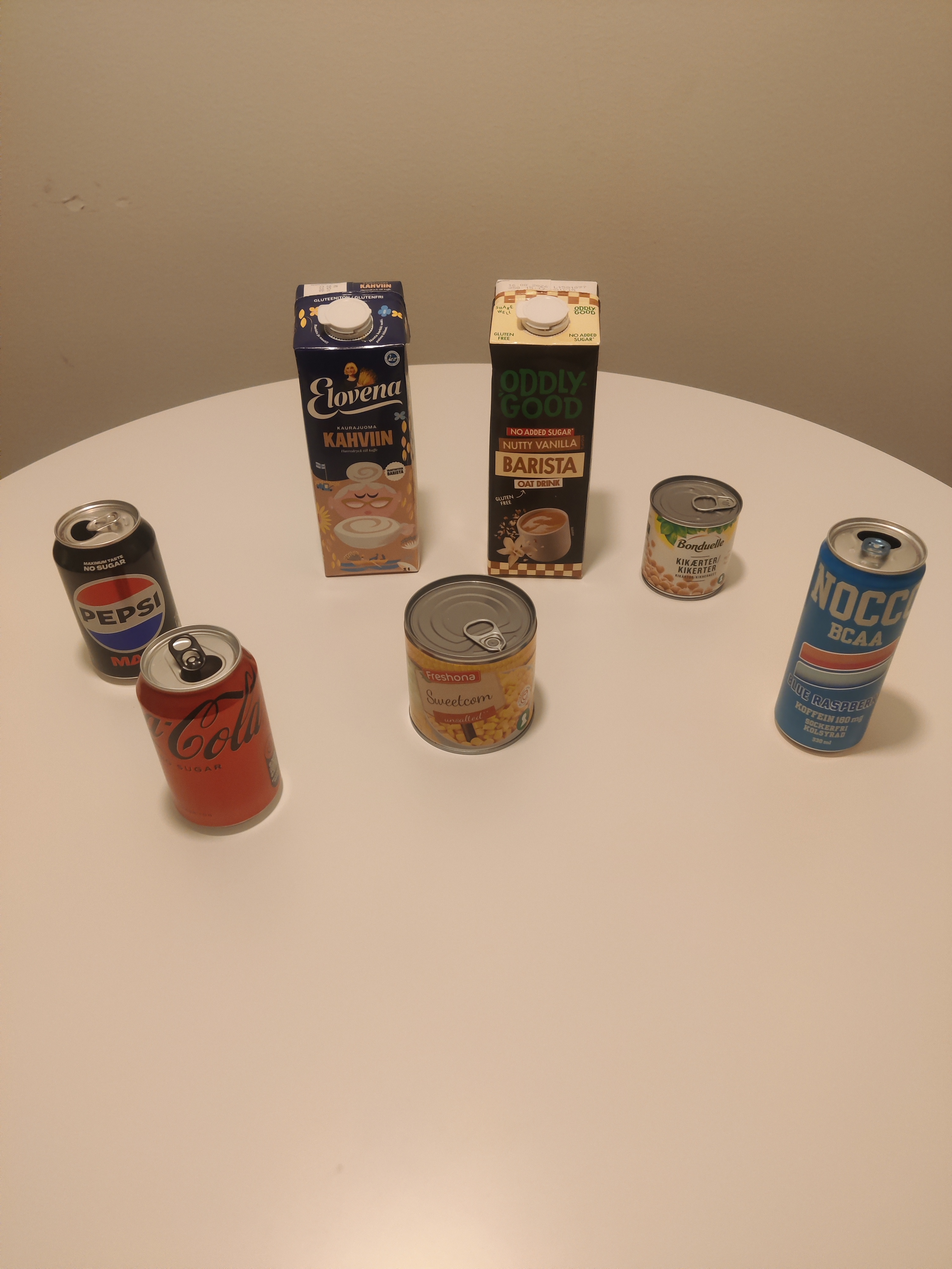Dryckeskartong: (294, 282, 439, 606), (487, 283, 604, 580)
Konservburk: (380, 571, 569, 763), (634, 471, 753, 599)
Pantburk: (772, 518, 940, 770), (25, 471, 184, 702), (136, 625, 285, 832)
